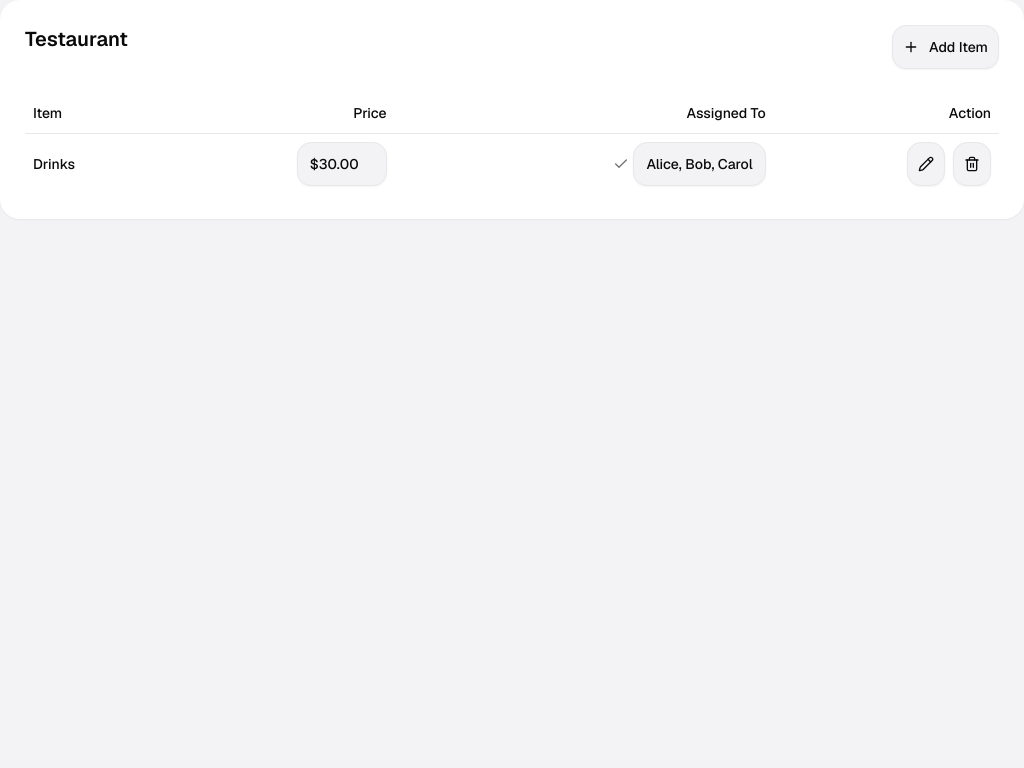
Test case: ItemAssignment › Edit Split dialog (custom percentages) › preserves previously saved custom percentages when dialog is reopened
Click the 4th button at x=926, y=164, box top-left (907, 142), bottom-right (945, 186)
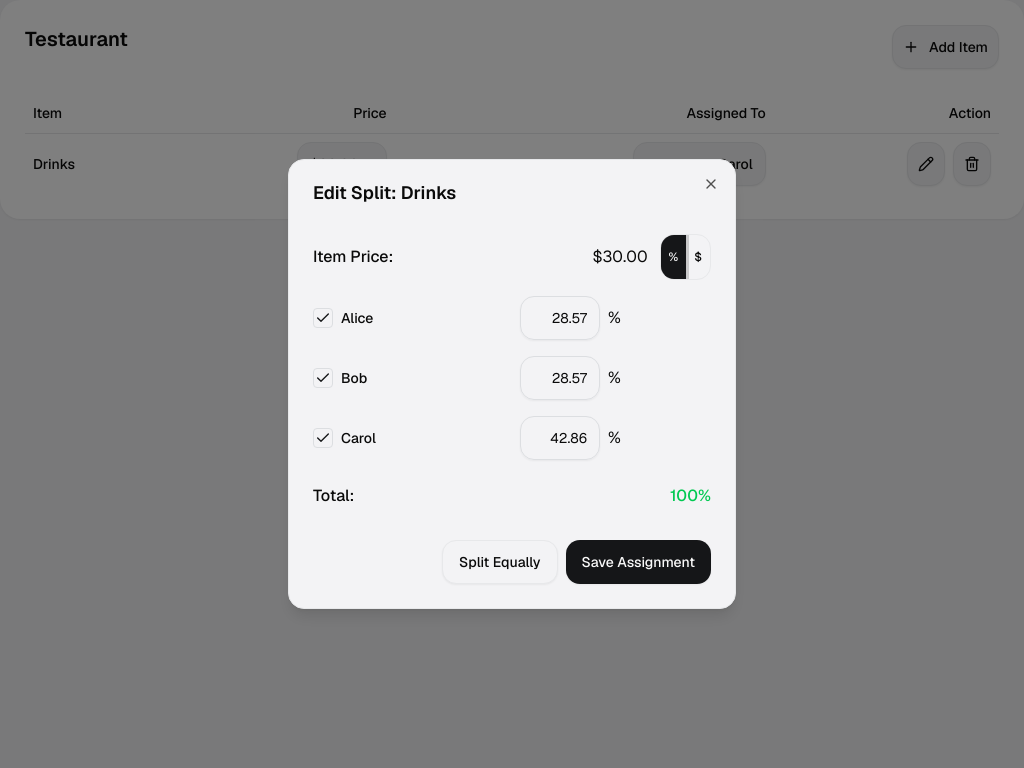
Check: the number of fields showing "28.57" is 2, box top-left (520, 296), bottom-right (600, 340); top-left (520, 356), bottom-right (600, 400)
Check: the 3rd field showing "42.86" is shown, box top-left (520, 416), bottom-right (600, 460)
